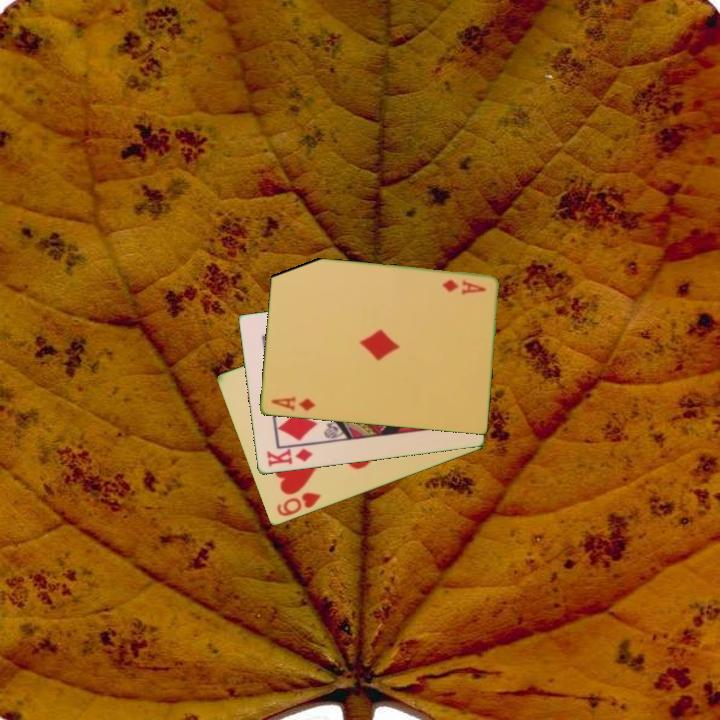6h: (273, 489, 324, 520)
Ad: (268, 393, 318, 414), (439, 276, 488, 297)
Kd: (263, 445, 315, 470)
